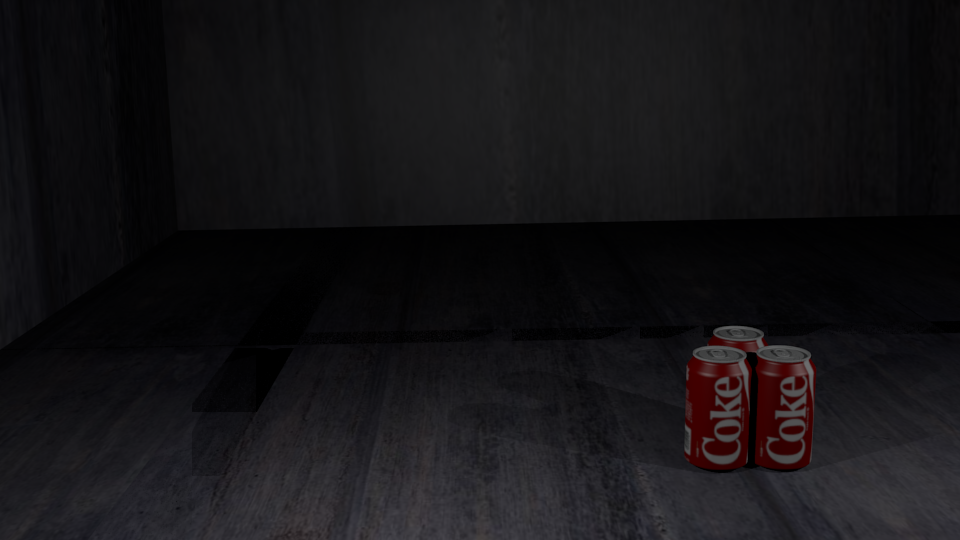cola_can: (749, 346, 815, 465), (686, 346, 751, 466), (708, 326, 768, 440)
